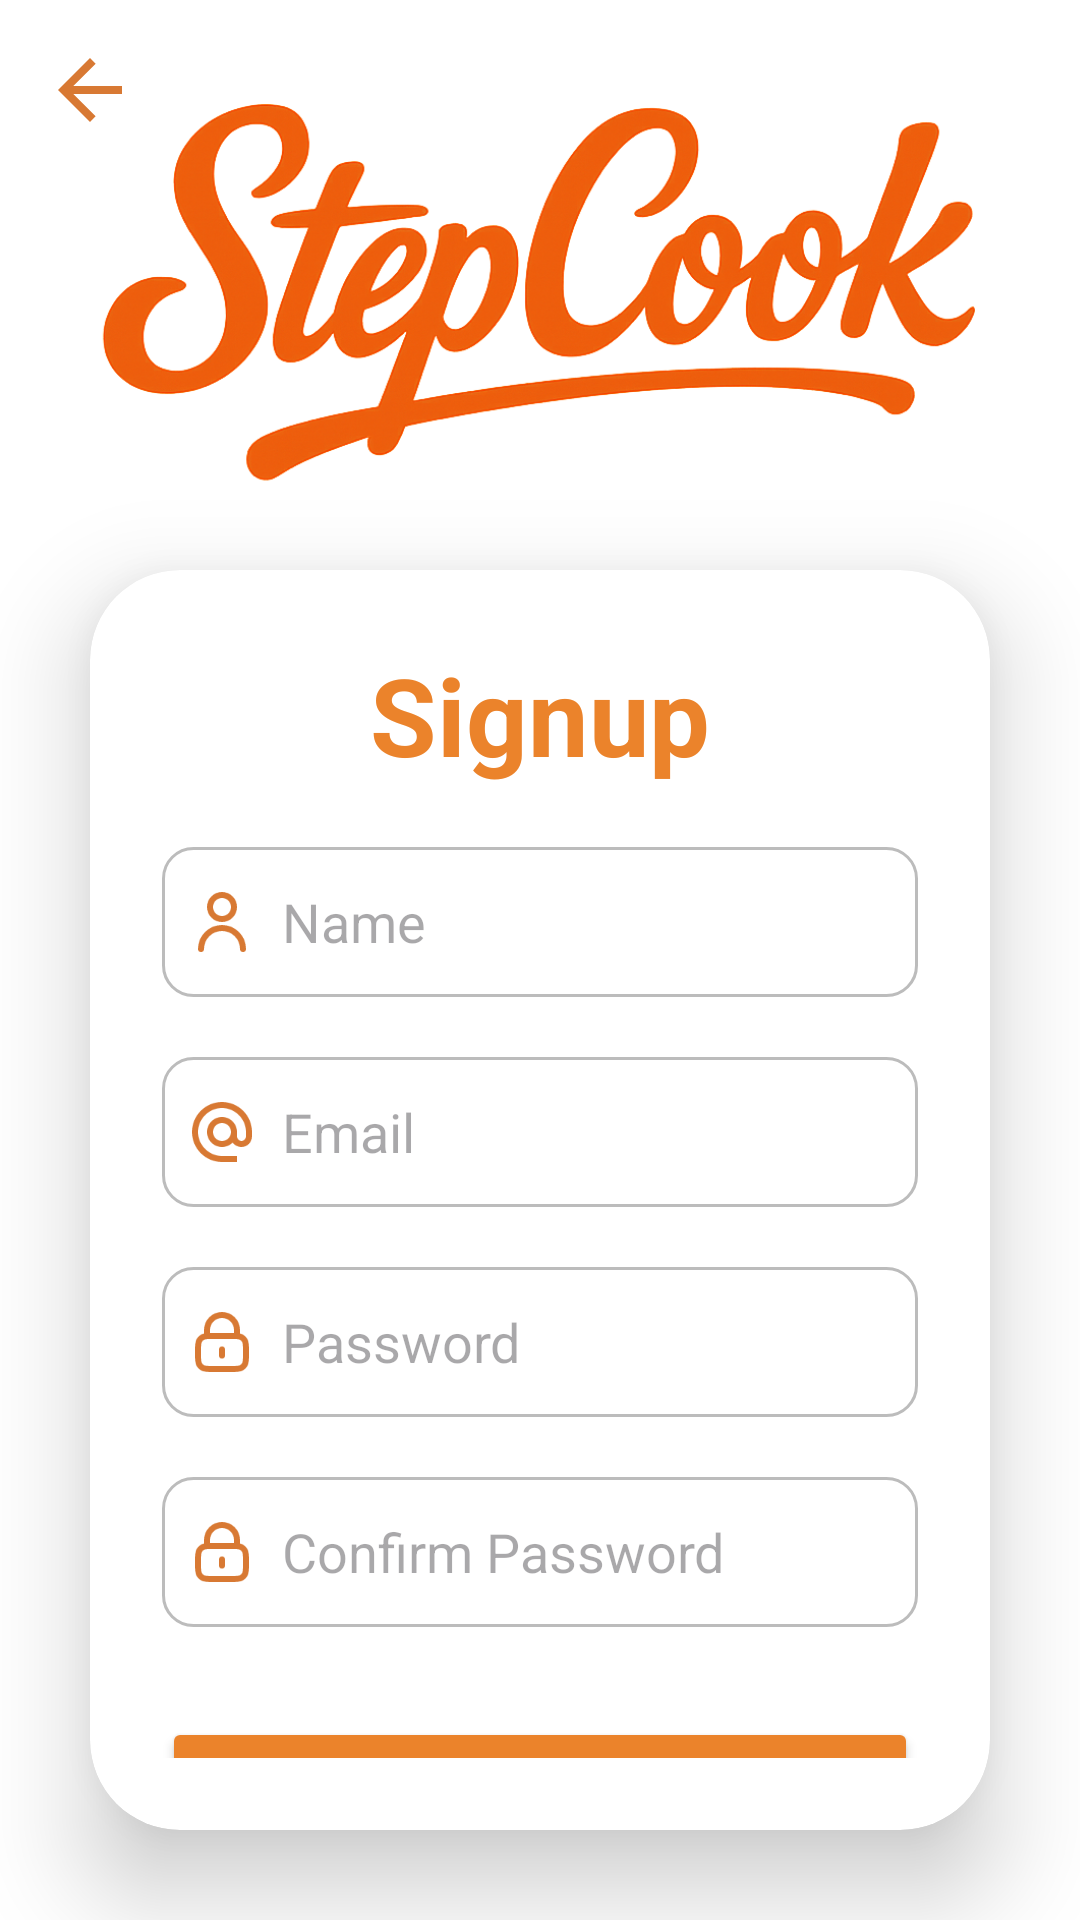

Screen size 1080px×1920px. Icon name, then its box in pixels as (x1, y1, x2, y2):
Back Button: (58, 58, 122, 122)
